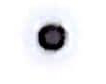cancer: (15, 8, 82, 66)
